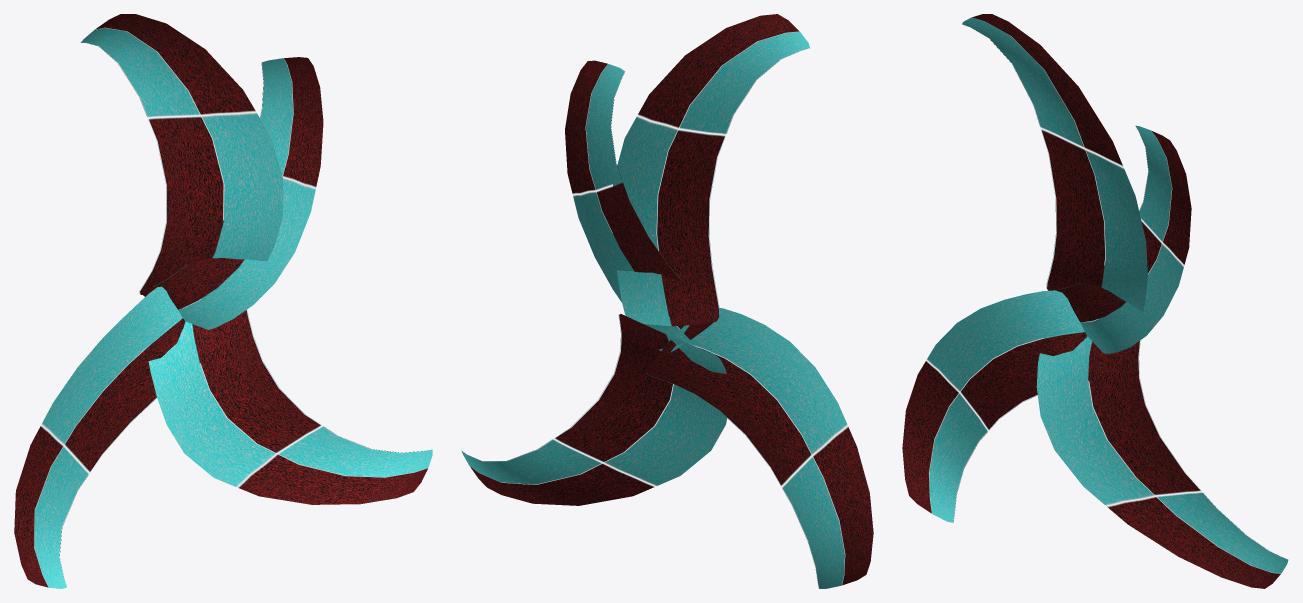
3 views of the same model, side by side, from view 1: azimuth 30°, elevation 25°; view 2: azimuth 150°, elevation 25°; view 3: azimuth 330°, elevation 25° (orthographic). The views are drawn at different scales.
Visible parts, largest first — view 1: SM_VFX_MultiSwirlA_LOD0; view 2: SM_VFX_MultiSwirlA_LOD0; view 3: SM_VFX_MultiSwirlA_LOD0.
Boxes of the visible parts, box(x1,y1,x2,y2) form: SM_VFX_MultiSwirlA_LOD0: box(14, 14, 432, 588); SM_VFX_MultiSwirlA_LOD0: box(461, 14, 873, 588); SM_VFX_MultiSwirlA_LOD0: box(902, 14, 1288, 588).
Bounding box in the file's own units: 6.55 × 8.48 × 0.591.
1 material, 1 textured.
